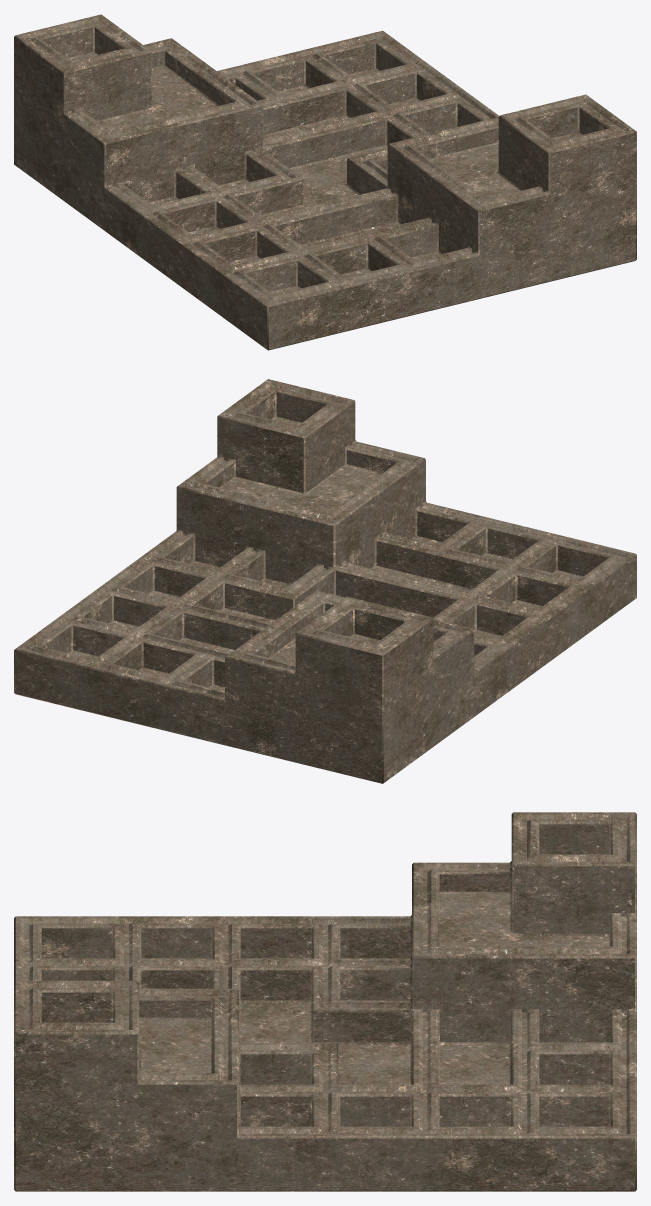
Rendered from mdl_franch_Yupana_Table.gltf.
3 renders of one model, top to bottom at view 1: azimuth 30°, elevation 25°; view 2: azimuth 150°, elevation 25°; view 3: azimuth 270°, elevation 25°, orthographic. The views are drawn at different scales.
Visible parts, largest first — view 1: interior; view 2: interior; view 3: interior.
Boxes of the visible parts, x1,y1,x2,y2 form: interior: (14,14,636,350); interior: (14,379,636,783); interior: (14,812,636,1191).
Size of the model in its own units: 14.2 by 4.77 by 16.9.
2 materials, 2 textured.
